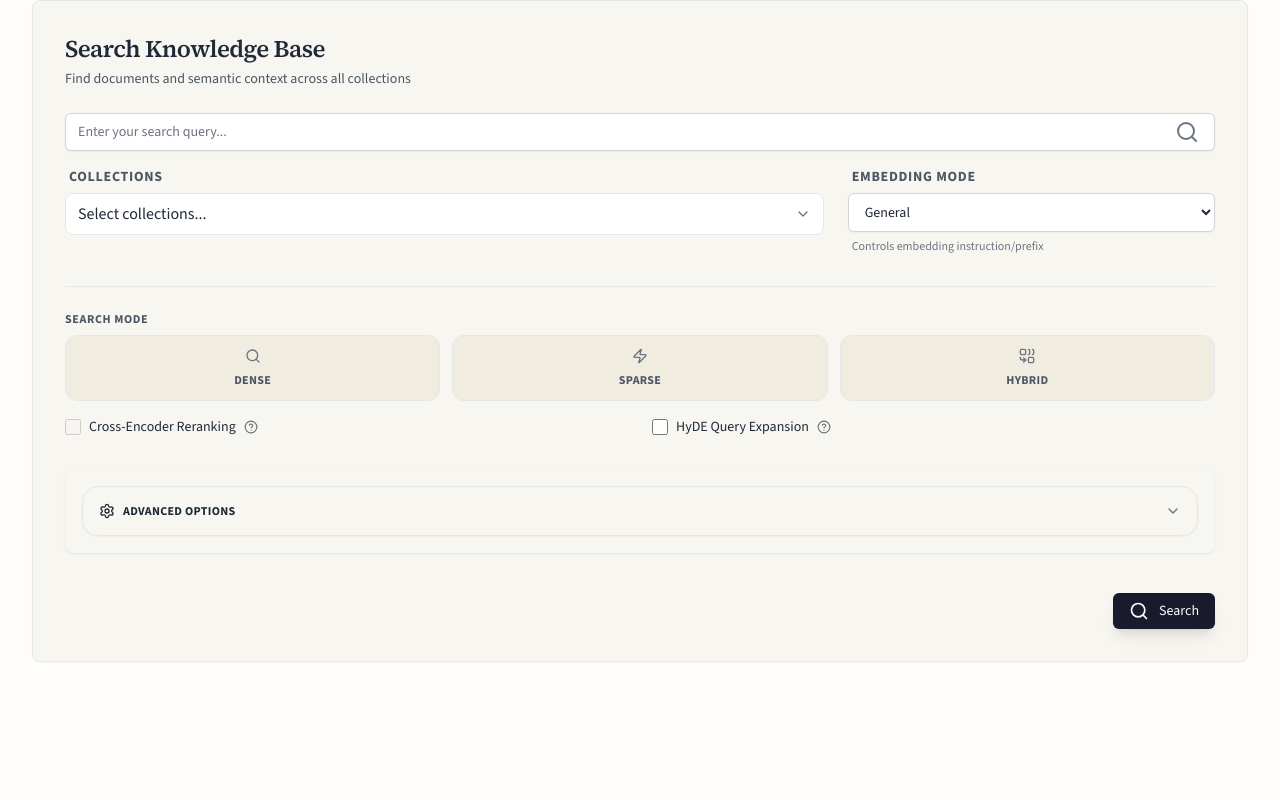
Test: SearchInterface Reranking Tests › should show reranking options only when enabled
This screenshot has width=1280, height=800.
Note: Enable reranking by clicking the checkbox input (now outside Advanced Options)
Click the checkbox labelled "Cross-Encoder Reranking". click: (73, 427)
box: [65, 419, 81, 435]
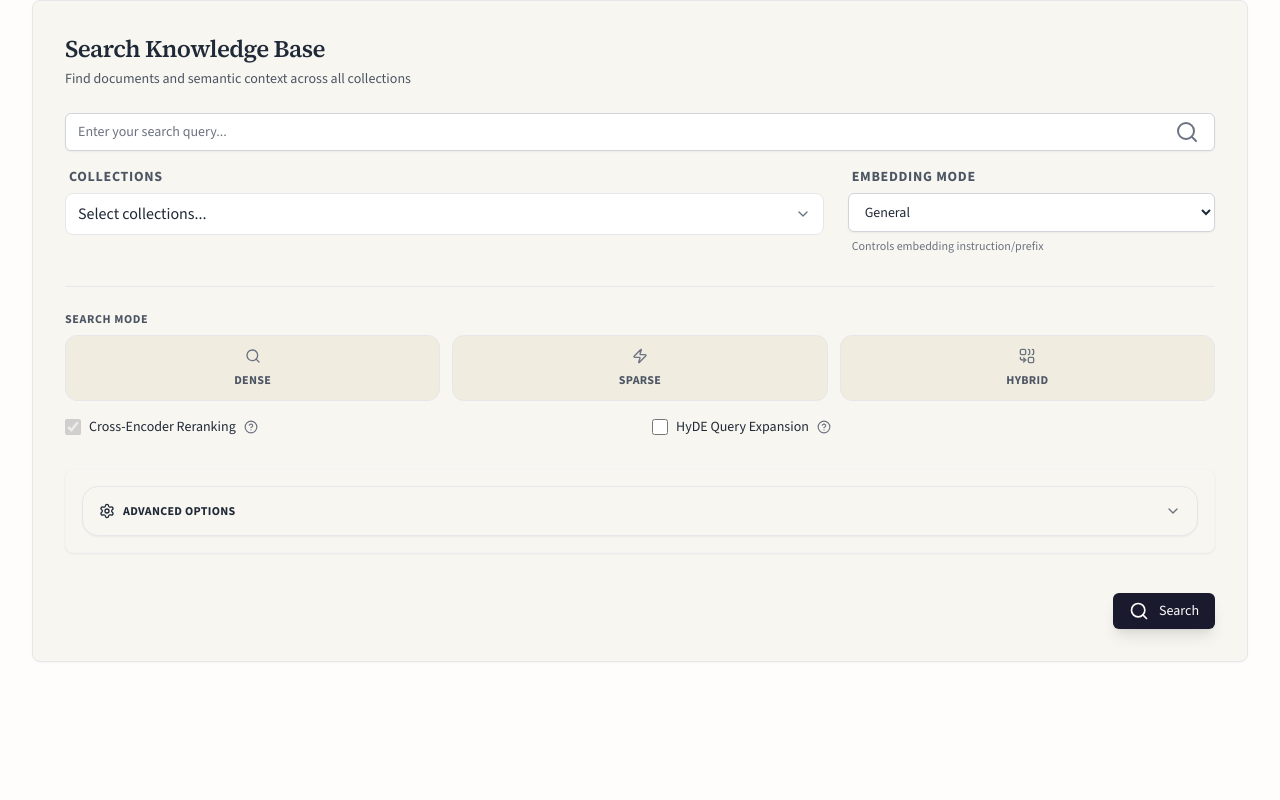
Note: Expand Advanced Options to see model/quantization dropdowns
Click the button "Advanced Options". click: (179, 511)
box: [83, 487, 1197, 535]
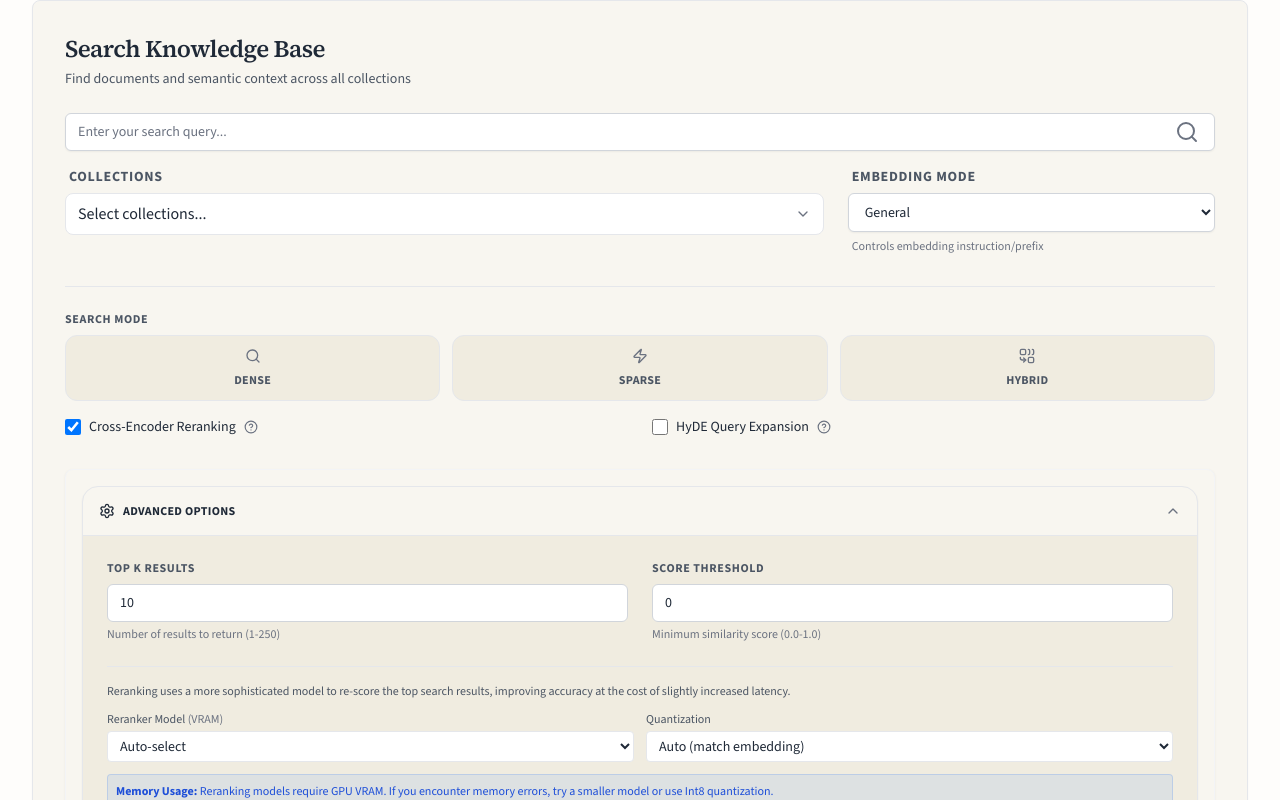
Check: the dropdown labelled "Reranker Model (VRAM)" is shown, box [107, 731, 634, 762]
Check: the dropdown labelled "Quantization" is shown, box [646, 731, 1173, 762]
Check: the text "Reranking uses a more sophisticated model" is shown, box [107, 683, 791, 699]
